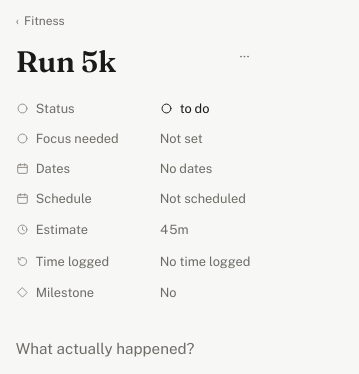
Test case: TaskPage › moves a task to a non-done status through the popover, not just done
Click the button with aria-label "Status: " at (205, 108), box top-left (154, 95), bottom-right (256, 122)
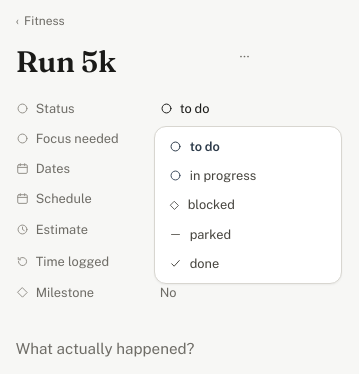
Click the menu item "in progress" at (248, 176), box top-left (160, 161), bottom-right (336, 190)
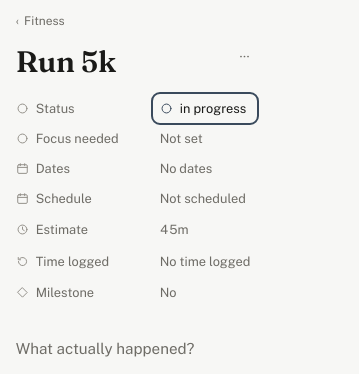
Expected: the button with aria-label "Status: in progress" is shown, top-left (154, 95), bottom-right (256, 122)
